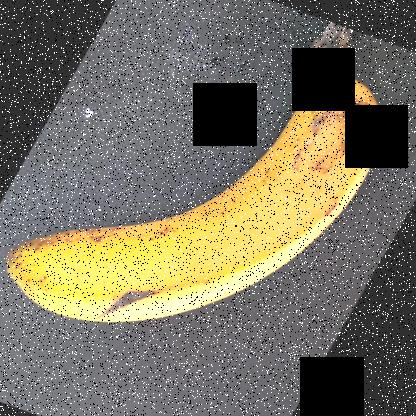ripe: (1, 0, 388, 335)
